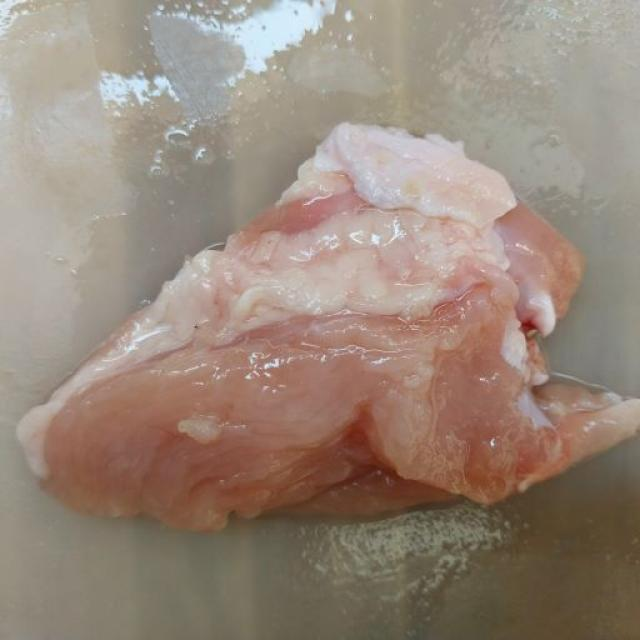Chicken: (9, 111, 640, 548)
